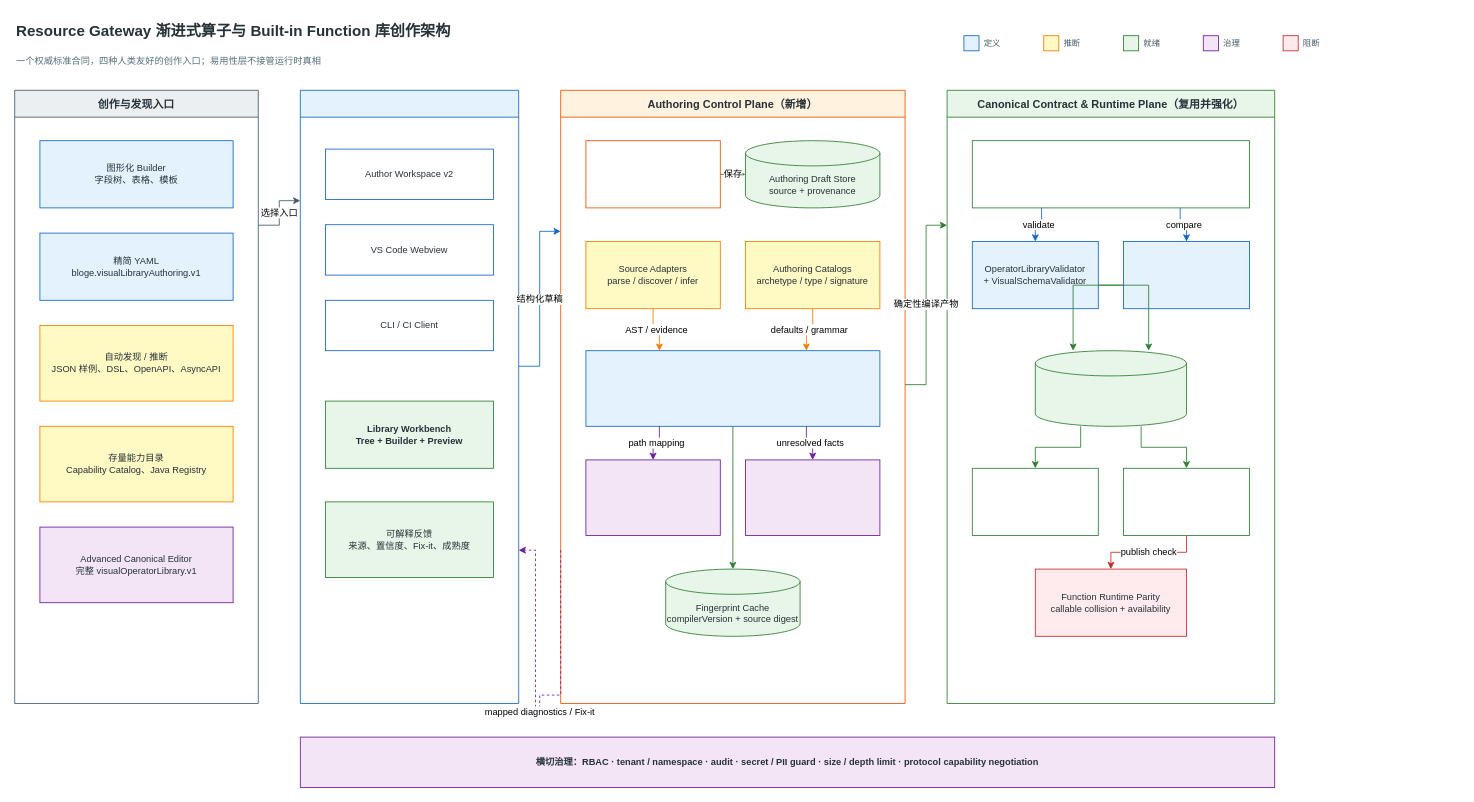
Some shapes in this 1474 by 802 pixel diagram are drawn without their labels. The shapes that lost their labels are listed below. From the top down, each one's box as (x1, y1, x2, y2) in pixels, then its label:
(585, 140, 720, 208): Draft API + 乐观锁 Autosave / ETag / Tenant Scope
(971, 140, 1250, 208): bloge.visualOperatorLibrary.v1 唯一交换与注册合同
(1123, 241, 1250, 309): Diff / Impact / Import Readiness
(299, 89, 519, 704): 统一 Authoring Surface
(585, 350, 880, 426): Deterministic Authoring Compiler normalize → resolve → expand → assemble
(1034, 350, 1186, 426): Library Registry + Revisions canonical snapshot / fingerprint
(585, 459, 720, 536): Source Map + Diagnostics Mapper canonicalPath ↔ authoringPath
(745, 459, 880, 536): Confirmation + Readiness Policy inferred ≠ confirmed
(971, 467, 1098, 536): Visual Operator Catalog palette + function hints
(1123, 467, 1250, 536): Graph / Test / Publish authoritative runtime gate
